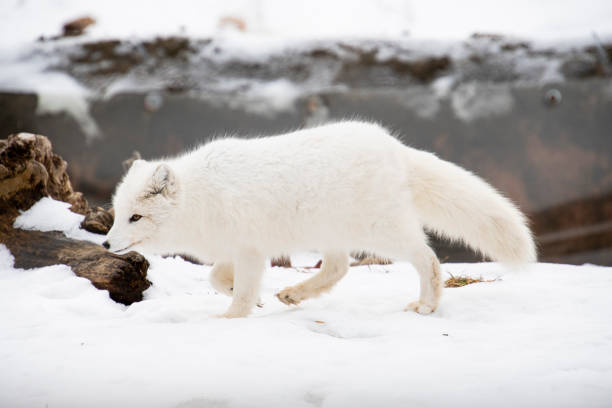arcticfox: (88, 167, 171, 271)
